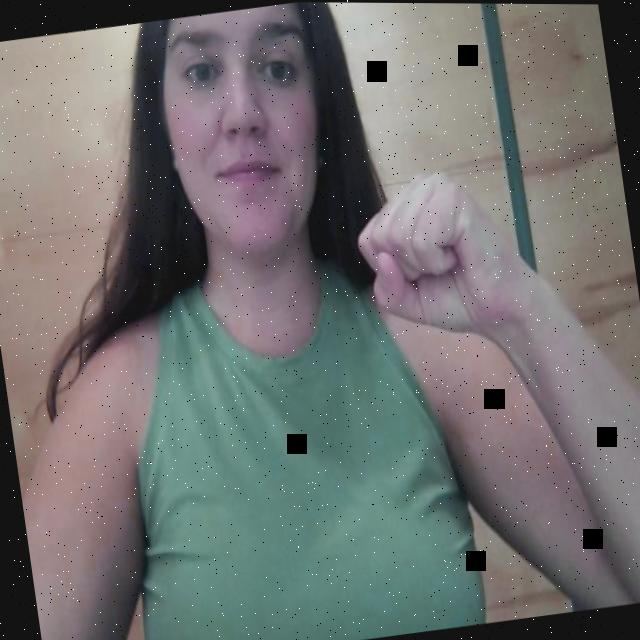Rock: (314, 134, 592, 486)
